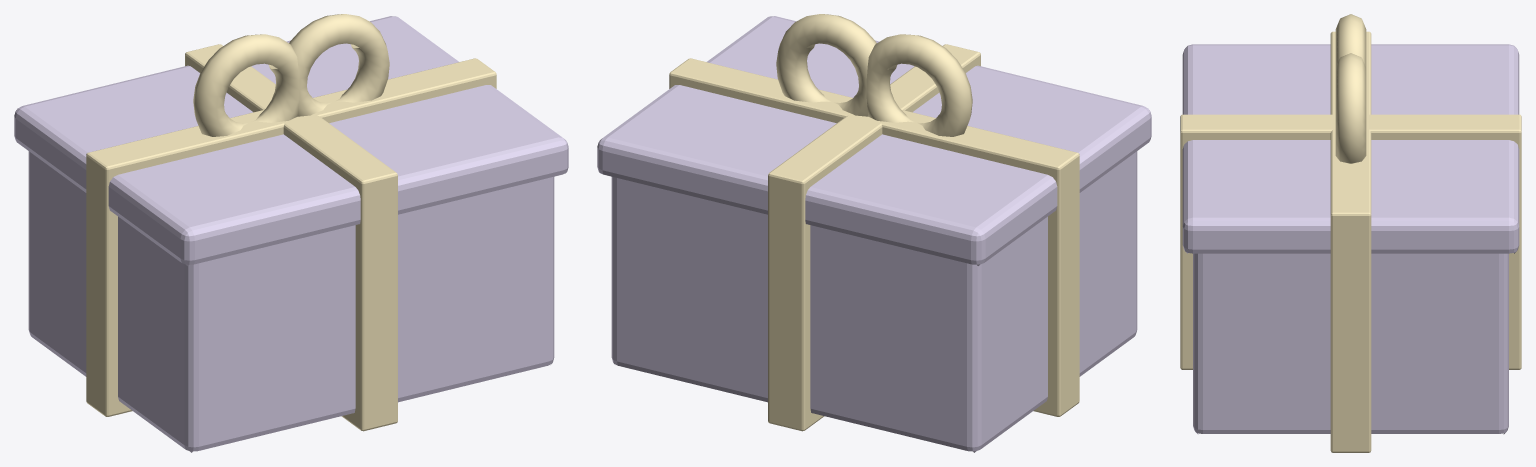
Rendered from box_lilac.glb.
3 renders of one model, left to right at view 1: azimuth 30°, elevation 25°; view 2: azimuth 150°, elevation 25°; view 3: azimuth 270°, elevation 25°, orthographic. The views are drawn at different scales.
Parts seen in each view (by area): view 1: box_lilac_lilac, box_lilac_butter; view 2: box_lilac_lilac, box_lilac_butter; view 3: box_lilac_lilac, box_lilac_butter.
Boxes of the visible parts, bbox=[...] form: box_lilac_lilac: bbox=[14, 16, 568, 452]; box_lilac_butter: bbox=[86, 14, 496, 431]; box_lilac_lilac: bbox=[597, 16, 1151, 452]; box_lilac_butter: bbox=[669, 14, 1079, 431]; box_lilac_lilac: bbox=[1182, 44, 1519, 434]; box_lilac_butter: bbox=[1180, 14, 1521, 452].
Size of the model in its own units: 0.85 by 0.6985 by 0.67.
